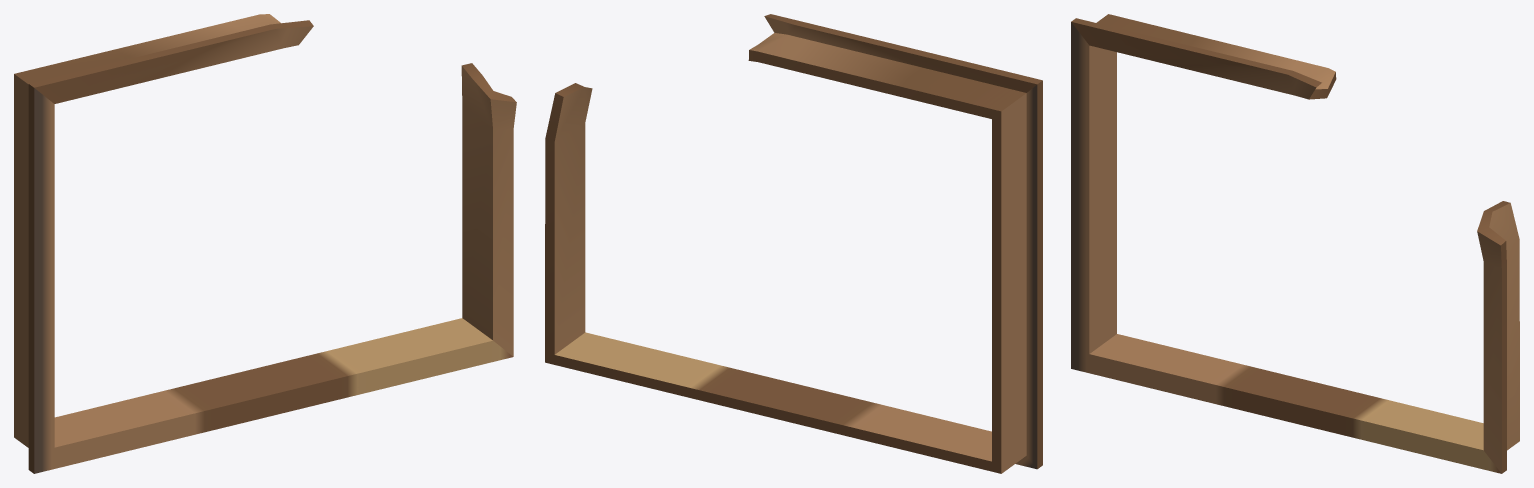
File: DBK_WinWide_Trim_A_90.fbx
3 renders of one model, left to right at view 1: azimuth 30°, elevation 25°; view 2: azimuth 150°, elevation 25°; view 3: azimuth 330°, elevation 25°, orthographic. The views are drawn at different scales.
Visible parts, largest first — view 1: DBK_WinWide_Trim_A_90; view 2: DBK_WinWide_Trim_A_90; view 3: DBK_WinWide_Trim_A_90.
Boxes of the visible parts, x1,y1,x2,y2 form: DBK_WinWide_Trim_A_90: (14,14,516,473); DBK_WinWide_Trim_A_90: (545,14,1042,473); DBK_WinWide_Trim_A_90: (1071,14,1519,473).
Bounding box in the file's own units: 174 × 134 × 21.45.
